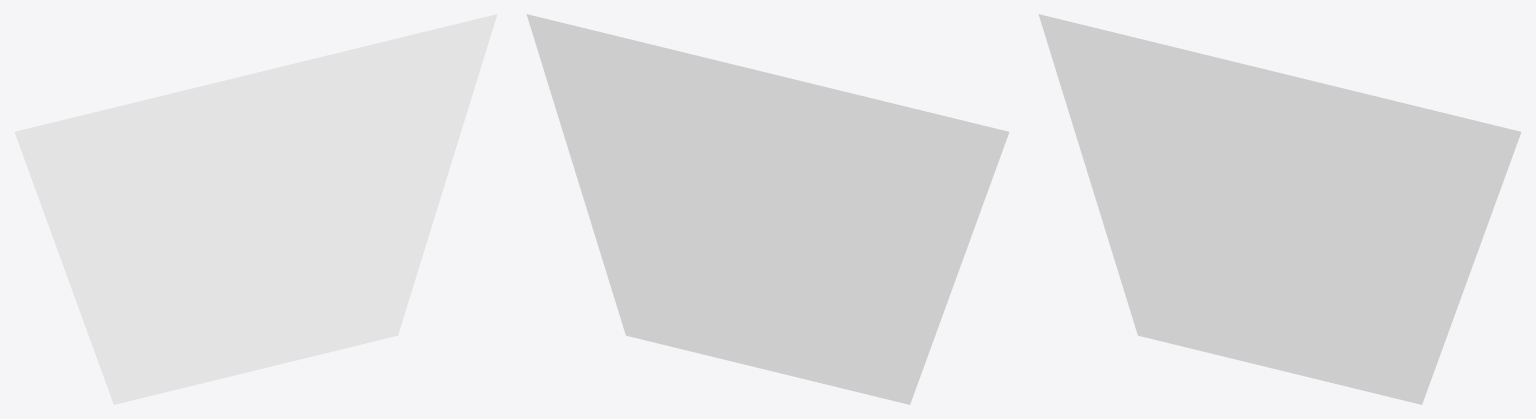
Rendered from fx_shaft.glb.
The picture shows the model from 3 angles, left to right: view 1: azimuth 30°, elevation 25°; view 2: azimuth 150°, elevation 25°; view 3: azimuth 330°, elevation 25°; orthographic projection.
Visible parts, largest first — view 1: Fx_Shaft; view 2: Fx_Shaft; view 3: Fx_Shaft.
Boxes of the visible parts, <box> form: Fx_Shaft: <box>14,14,497,404</box>; Fx_Shaft: <box>526,14,1009,404</box>; Fx_Shaft: <box>1038,14,1521,404</box>.
Bounding box in the file's own units: 1.7 × 1 × 0.
1 material, 1 textured.
